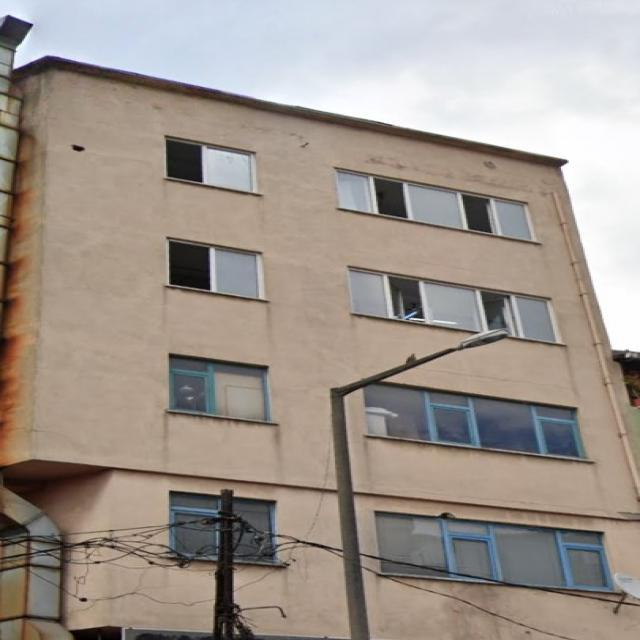Building: (1, 55, 640, 640)
